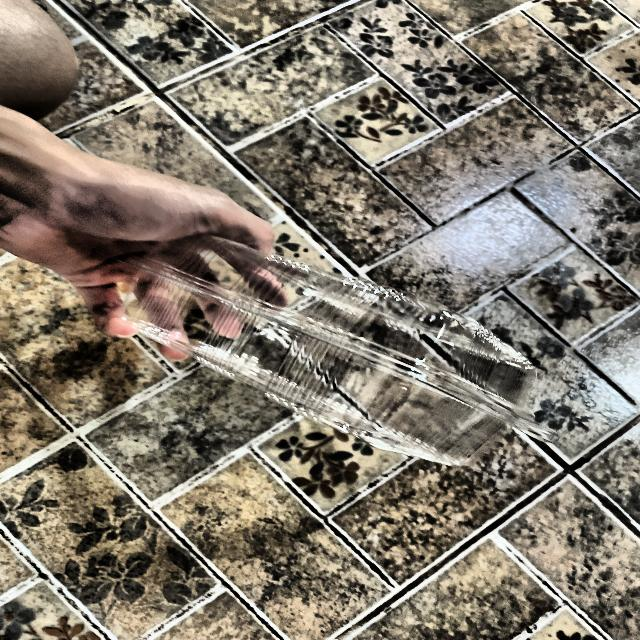plastic container: (84, 199, 533, 478)
